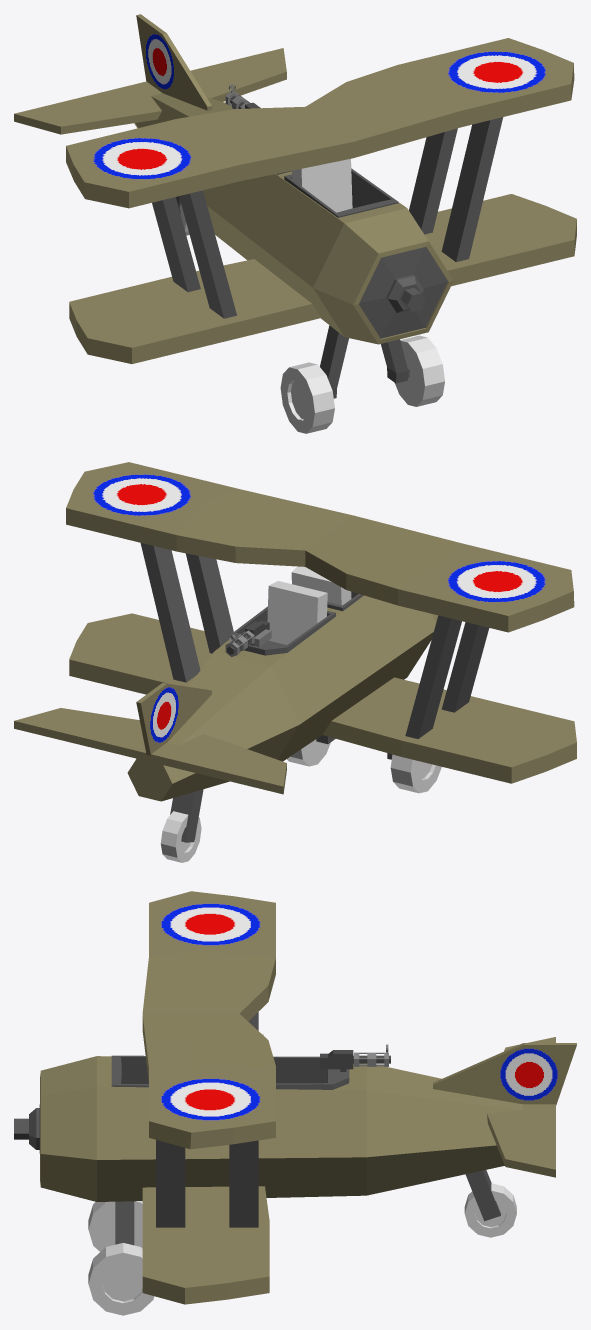
The model's file is alies Biplane.fbx.
The picture shows the model from 3 angles, top to bottom: view 1: azimuth 30°, elevation 25°; view 2: azimuth 150°, elevation 25°; view 3: azimuth 270°, elevation 25°; orthographic projection.
Visible parts, largest first — view 1: Cylinder, Model_0.000, Model_0.003, Model_0.001; view 2: Cylinder, Model_0.002, Model_0.000, Model_0.004, Model_0.001, Cube.013, Model_0.003; view 3: Cylinder, Model_0.003, Model_0.004, Model_0.000, Cube.013.
Part boxes in pixels (x1,y1,x2,y2): Cylinder: [14, 14, 576, 398]; Model_0.000: [280, 362, 334, 433]; Model_0.003: [395, 335, 444, 406]; Model_0.001: [292, 159, 352, 212]; Cylinder: [14, 462, 576, 842]; Model_0.002: [267, 581, 327, 644]; Model_0.000: [390, 754, 441, 793]; Model_0.004: [160, 811, 201, 862]; Model_0.001: [291, 566, 351, 605]; Cube.013: [225, 620, 271, 656]; Model_0.003: [287, 739, 330, 766]; Cylinder: [14, 891, 576, 1304]; Model_0.003: [88, 1243, 154, 1315]; Model_0.004: [464, 1183, 516, 1237]; Model_0.000: [88, 1201, 142, 1251]; Cube.013: [320, 1044, 390, 1071].
Bounding box in the file's own units: 779 × 409 × 768.
4 materials, 1 textured.
